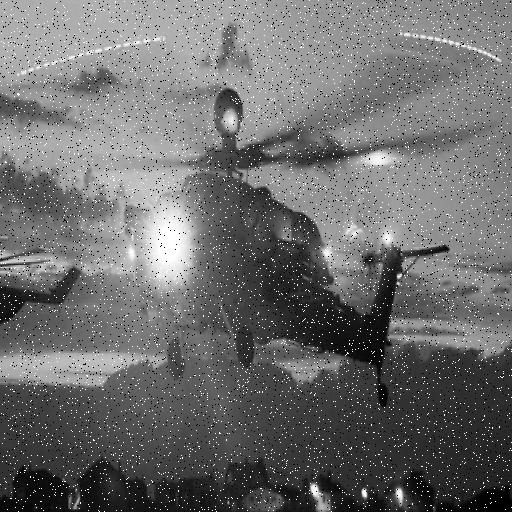helicopter: (104, 88, 453, 409)
